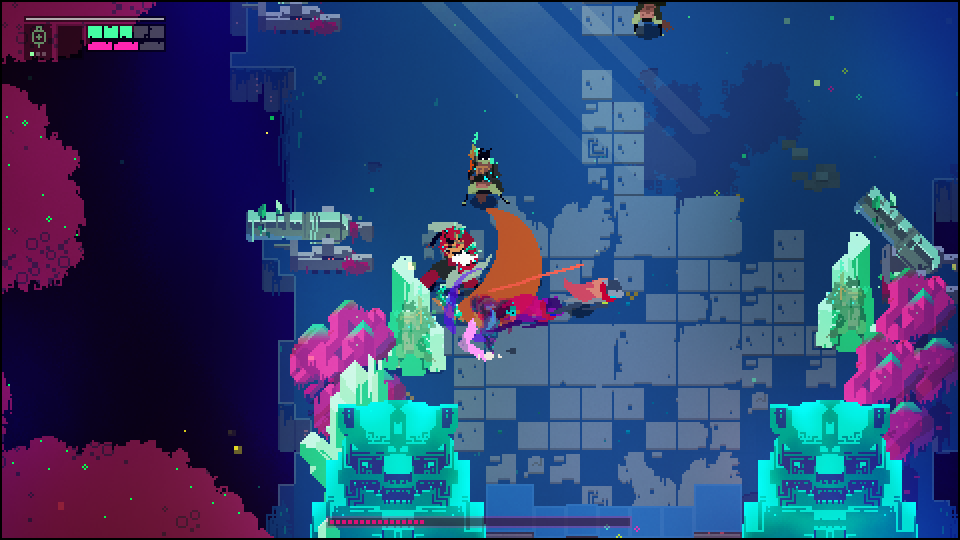hanged_man: (414, 219, 509, 326)
player: (558, 275, 624, 316)
